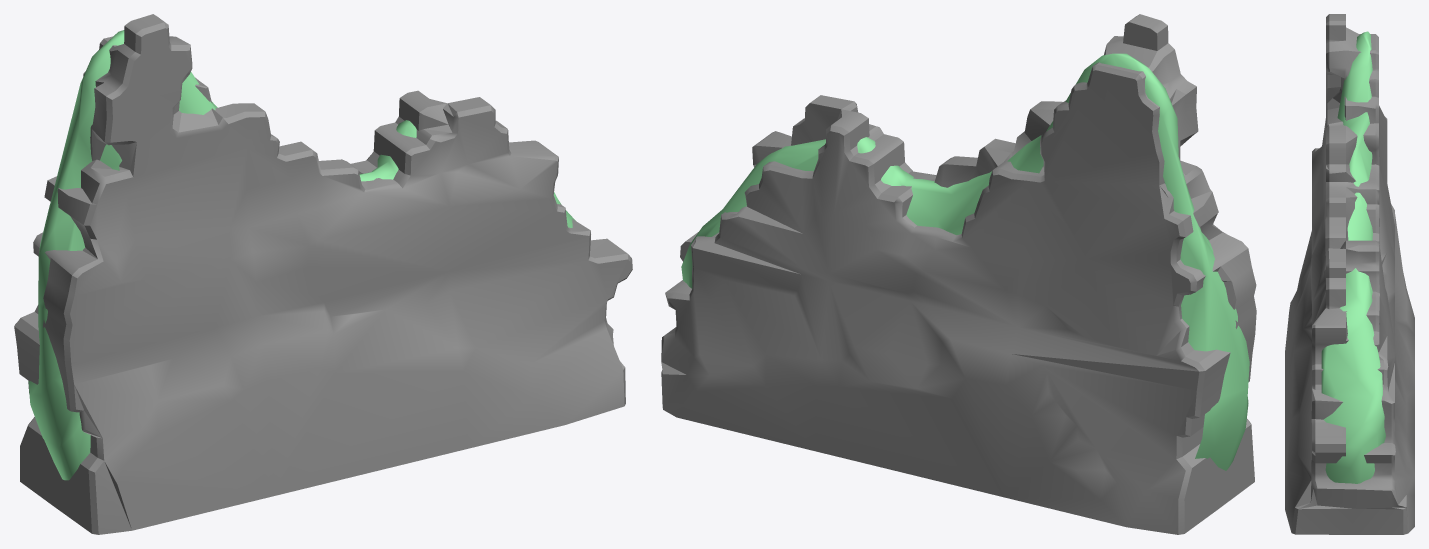
The model's file is SM_Castle_Wall_D_ALT.fbx.
The picture shows the model from 3 angles, left to right: view 1: azimuth 30°, elevation 25°; view 2: azimuth 150°, elevation 25°; view 3: azimuth 270°, elevation 25°; orthographic projection. The views are drawn at different scales.
Visible parts, largest first — view 1: SM_Castle_Wall_D_ALT_LOD0; view 2: SM_Castle_Wall_D_ALT_LOD0; view 3: SM_Castle_Wall_D_ALT_LOD0.
Boxes of the visible parts, x1,y1,x2,y2 form: SM_Castle_Wall_D_ALT_LOD0: (14,14,632,534); SM_Castle_Wall_D_ALT_LOD0: (661,14,1256,534); SM_Castle_Wall_D_ALT_LOD0: (1285,14,1414,534).
Size of what is drawn, in the model's own units: 1075 by 843 by 281.
